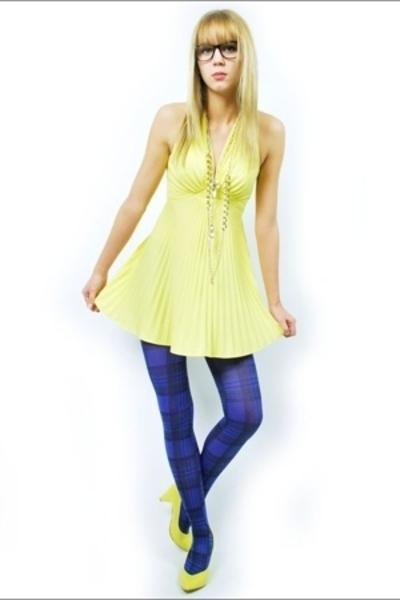dress: (95, 114, 275, 357)
shoe: (160, 482, 203, 593)
